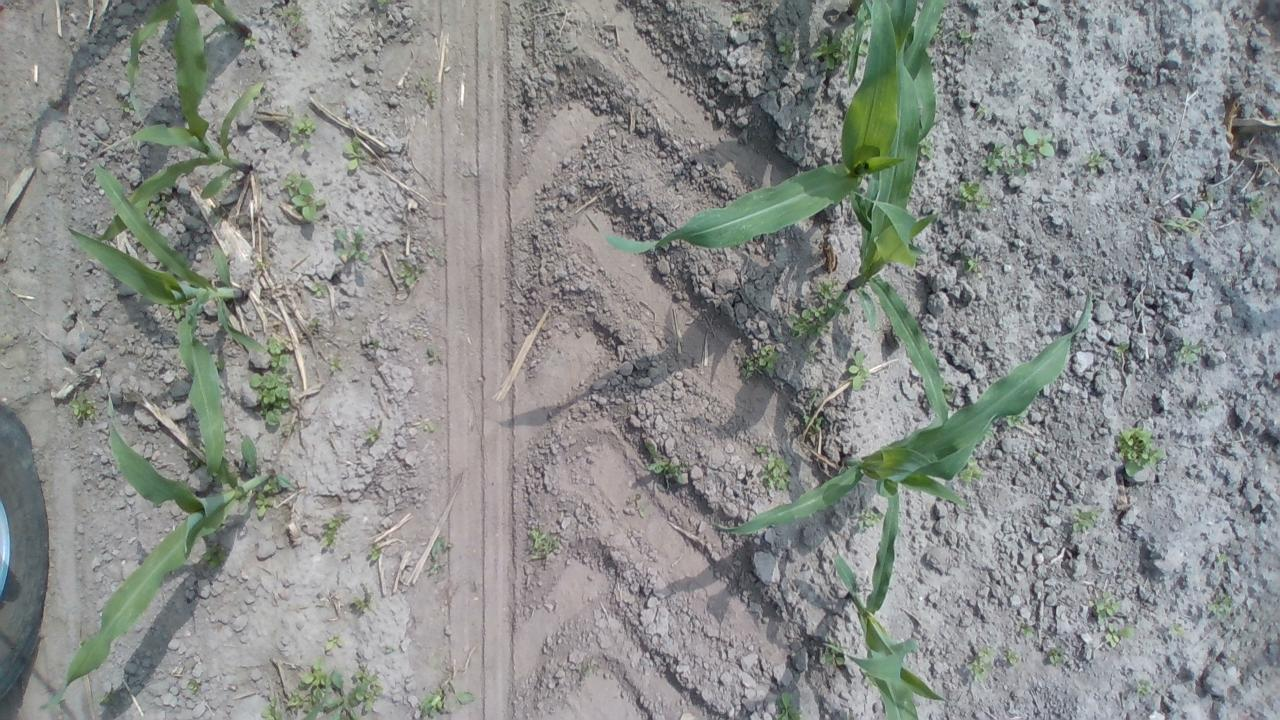Maize: (711, 284, 1092, 534), (581, 0, 945, 251), (38, 379, 293, 707), (66, 149, 270, 486), (96, 0, 264, 247), (848, 39, 948, 424), (822, 489, 956, 720), (125, 0, 254, 128), (848, 0, 936, 141), (302, 668, 328, 720)
Weeds: (286, 655, 383, 720), (246, 334, 298, 432), (979, 124, 1056, 180), (786, 276, 852, 338), (1115, 424, 1165, 480), (418, 676, 476, 718), (282, 170, 326, 224), (644, 440, 686, 492), (734, 344, 782, 378), (334, 223, 371, 263), (318, 510, 350, 555), (806, 29, 838, 72), (284, 112, 318, 151), (761, 452, 793, 492), (965, 642, 996, 683), (1159, 206, 1204, 234), (528, 528, 560, 564), (1089, 588, 1121, 624), (343, 134, 369, 176), (958, 180, 992, 211), (848, 350, 873, 388), (270, 3, 306, 29), (1072, 505, 1104, 534), (772, 691, 803, 720), (396, 258, 426, 287), (856, 505, 884, 535), (1174, 334, 1204, 362), (1207, 592, 1235, 621), (1104, 621, 1134, 648), (70, 392, 96, 421), (624, 494, 650, 522), (199, 544, 226, 569), (822, 637, 845, 666), (777, 34, 799, 64), (323, 631, 348, 655), (362, 417, 385, 443), (962, 459, 984, 485), (1248, 190, 1266, 221), (838, 26, 856, 57), (428, 536, 451, 560), (258, 697, 282, 720), (1081, 148, 1107, 169), (256, 490, 274, 519), (148, 198, 170, 220), (802, 412, 824, 434), (352, 592, 373, 614), (1016, 620, 1036, 640), (1046, 646, 1066, 666), (117, 96, 136, 117), (309, 282, 329, 300), (327, 352, 344, 373), (919, 138, 935, 160), (1167, 620, 1186, 638), (1002, 648, 1022, 664), (1136, 677, 1152, 697), (1005, 414, 1026, 429), (426, 562, 446, 577), (368, 540, 382, 561), (264, 479, 280, 496), (418, 420, 437, 434), (426, 347, 439, 367), (170, 304, 185, 321), (309, 314, 322, 333), (808, 390, 824, 405), (369, 336, 383, 352), (242, 33, 256, 49), (585, 659, 599, 675), (415, 75, 430, 89), (1115, 342, 1130, 356), (956, 29, 970, 44), (803, 346, 816, 362), (730, 12, 747, 24), (252, 256, 266, 270), (1216, 550, 1230, 564), (186, 677, 198, 693), (755, 443, 771, 455), (942, 382, 952, 400), (934, 23, 944, 40), (424, 246, 438, 258), (424, 88, 436, 101), (1204, 192, 1216, 205), (965, 257, 980, 267), (386, 644, 396, 656), (974, 104, 986, 114), (98, 694, 112, 702), (1032, 450, 1040, 461), (375, 0, 390, 5), (413, 331, 422, 339)
